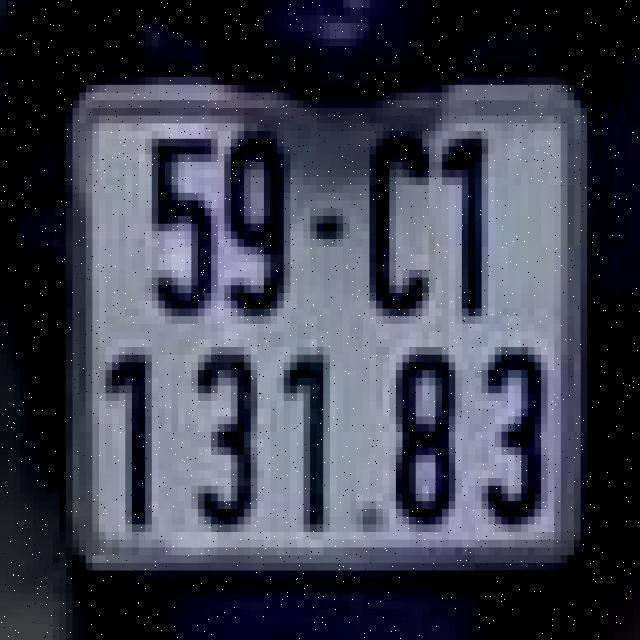1: (99, 343, 158, 544), (438, 112, 492, 328), (277, 328, 323, 551)
3: (185, 328, 264, 528), (475, 332, 541, 540)
5: (142, 112, 228, 335)
8: (386, 332, 452, 540)
9: (221, 116, 294, 324)
C: (360, 120, 446, 320)
